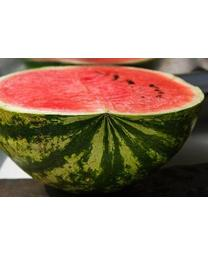watermelon: (0, 68, 204, 194)
